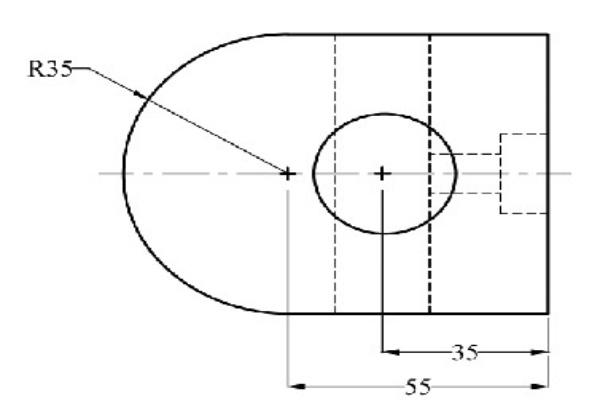dimensions: (17, 52, 77, 83), (446, 338, 484, 367), (401, 375, 434, 398)
